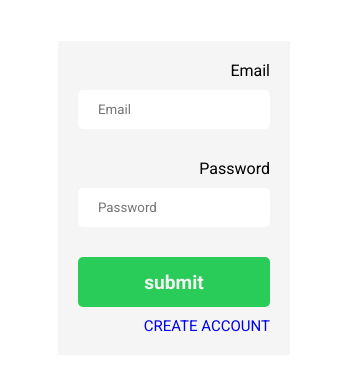
Test: Login › Testing login form if the user submits the form without entering an email or password
The width and height of the screenshot is (348, 374).
Step 1. Click the button "submit" → click(174, 282), box x1=78 y1=257 x2=270 y2=307
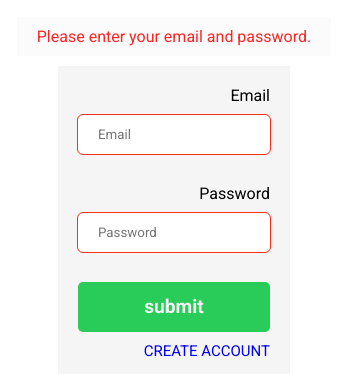
Check: the text "Please enter your email and password." is shown, box x1=17 y1=16 x2=331 y2=56
